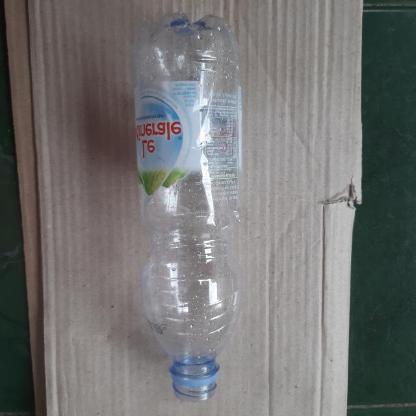Plastic Bottle: (124, 10, 270, 416)
